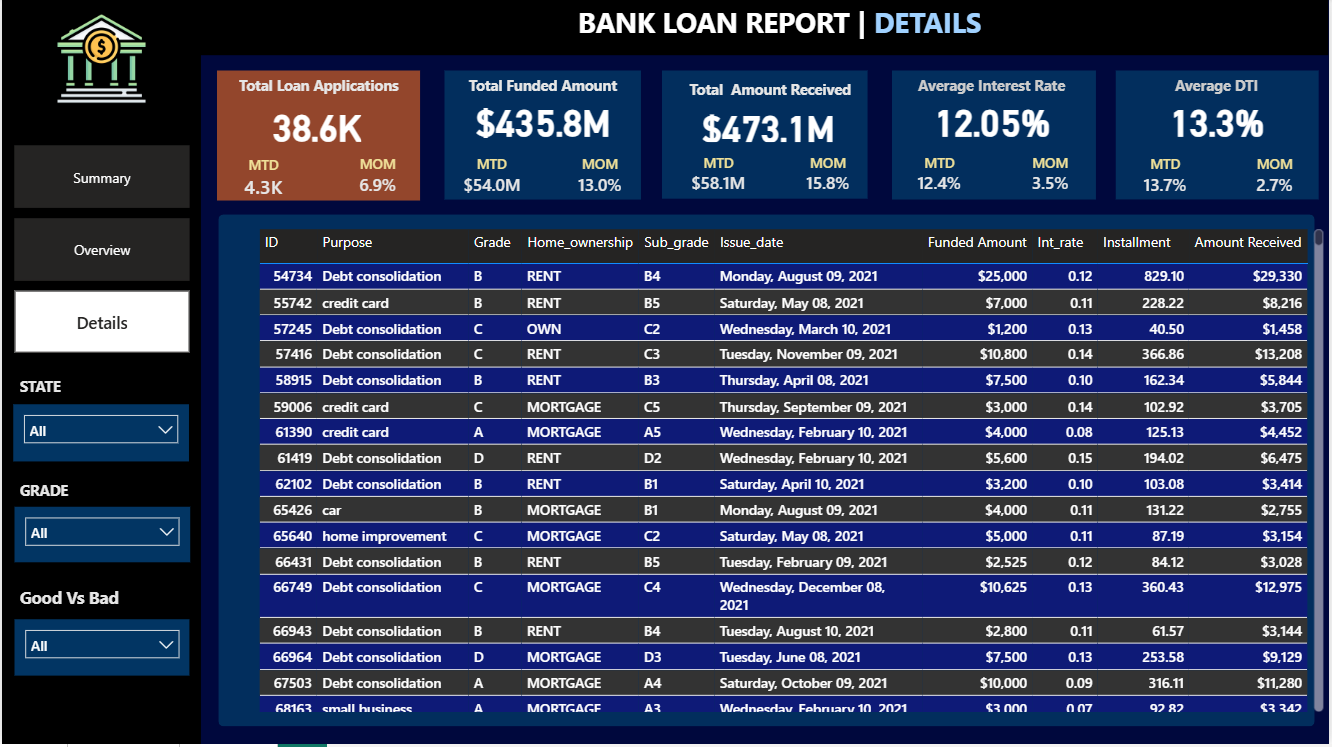

The page's visual inventory and layout, read from the dashboard file:
{"tool":"powerbi","page":{"name":"Details","canvas":[1280,720],"ordinal":2},"visuals":[{"type":"shape","box":[0,0,192.3,720.8],"z":0},{"type":"shape","box":[208.5,69.9,196.3,125.5],"z":0,"group":"g1"},{"type":"shape","box":[426.9,69.9,189.6,124.6],"z":0,"group":"g2"},{"type":"shape","box":[636.8,69.9,198.4,123.7],"z":0,"group":"g3"},{"type":"shape","box":[858.3,69.9,197,124.5],"z":0,"group":"g4"},{"type":"shape","box":[1075,69.9,195.9,124.4],"z":0,"group":"g5"},{"type":"shape","box":[0,0,1280.3,54.9],"z":1000},{"type":"cardVisual","fields":{"Data":["Bank_Loan_Data.Total Loan Application"]},"box":[208,78.1,193.7,92.8],"z":1000,"group":"g1"},{"type":"cardVisual","fields":{"Data":["Bank_Loan_Data.Total Funded Amount"]},"box":[426.6,88,190.9,64.9],"z":1000,"group":"g2"},{"type":"cardVisual","fields":{"Data":["Bank_Loan_Data.AVG Interest Rate"]},"box":[856.3,88.1,198.3,64.6],"z":1000,"group":"g4"},{"type":"cardVisual","fields":{"Data":["Bank_Loan_Data.AVG DTI"]},"box":[1074.5,88.2,195.8,64.6],"z":1000,"group":"g5"},{"type":"cardVisual","fields":{"Data":["Bank_Loan_Data.Total Amount Received"]},"box":[642.4,95.8,193.3,61.4],"z":1000,"group":"g3"},{"type":"textbox","box":[208.5,69.9,196.3,32],"z":2000,"group":"g1"},{"type":"textbox","box":[426.9,69.9,189.6,31.8],"z":2000,"group":"g2"},{"type":"textbox","box":[856.6,70.1,196.9,31.7],"z":2000,"group":"g4"},{"type":"textbox","box":[1074.8,70.2,194.5,31.6],"z":2000,"group":"g5"},{"type":"textbox","box":[645.2,74,192,30.1],"z":2000,"group":"g3"},{"type":"shape","box":[208.4,208.4,1058.3,494.4],"z":2000},{"type":"cardVisual","title":"MTD","fields":{"Data":["Bank_Loan_Data.MTD Amount Received"]},"box":[655.2,150,73,41.3],"z":3000,"group":"g3"},{"type":"cardVisual","title":"MTD","fields":{"Data":["Bank_Loan_Data.MTD AVG Interest Rate"]},"box":[866.9,150.1,74.8,43.5],"z":3000,"group":"g4"},{"type":"cardVisual","title":"MTD","fields":{"Data":["Bank_Loan_Data.MTD AVG DTI"]},"box":[1085,150.2,73.9,43.5],"z":3000,"group":"g5"},{"type":"cardVisual","title":"MTD","fields":{"Data":["Bank_Loan_Data.MTD Funded Amount"]},"box":[436.8,150.3,72.1,43.7],"z":3000,"group":"g2"},{"type":"cardVisual","title":"MTD","fields":{"Data":["Bank_Loan_Data.MTD Loan Applications"]},"box":[217.6,151.3,70.7,44.1],"z":3000,"group":"g1"},{"type":"textbox","box":[12.1,360.4,84.7,39],"z":3000},{"type":"textbox","box":[192.3,0,1088,55.1],"z":4000},{"type":"cardVisual","title":"MOM","fields":{"Data":["Bank_Loan_Data.MoM Total Amount Received"]},"box":[758.3,150,76.8,42.6],"z":4000,"group":"g3"},{"type":"cardVisual","title":"MOM","fields":{"Data":["Bank_Loan_Data.MoM AVG Int Rate"]},"box":[972.6,150.1,78.8,44.8],"z":4000,"group":"g4"},{"type":"cardVisual","title":"MOM","fields":{"Data":["Bank_Loan_Data.MoM AVG DTI"]},"box":[1189.4,150.2,77.8,44.8],"z":4000,"group":"g5"},{"type":"cardVisual","title":"MOM","fields":{"Data":["Bank_Loan_Data.MoM Total Funded Amount"]},"box":[538.6,150.3,75.9,45.1],"z":4000,"group":"g2"},{"type":"cardVisual","title":"MOM","fields":{"Data":["Bank_Loan_Data.MoM Loan Application"]},"box":[324.1,150.9,78.5,45.4],"z":4000,"group":"g1"},{"type":"group","id":"g1","title":"Group 1","box":[208,69.9,196.8,126.4],"z":5000},{"type":"group","id":"g2","title":"Group 1","box":[426.6,69.9,191,126.4],"z":6000},{"type":"group","id":"g3","title":"Group 1","box":[636.8,69.9,200.4,123.7],"z":7000},{"type":"group","id":"g4","title":"Group 1","box":[856.3,69.9,199,125.1],"z":8000},{"type":"group","id":"g5","title":"Group 1","box":[1074.5,69.9,196.3,125.1],"z":9000},{"type":"slicer","fields":{"Values":["Bank_Loan_Data.address_state"]},"box":[10.8,392.7,169.4,55.1],"z":10000},{"type":"slicer","fields":{"Values":["Bank_Loan_Data.grade"]},"box":[12.1,490.9,169.4,53.8],"z":11000},{"type":"textbox","box":[12.1,461.3,72.6,48.4],"z":12000},{"type":"textbox","box":[12.3,562.5,168.9,73.5],"z":13000},{"type":"slicer","fields":{"Values":["Bank_Loan_Data.Good Loan VS Bad Loan"]},"box":[12.3,599.3,168.9,54.5],"z":14000},{"type":"tableEx","fields":{"Values":["Bank_Loan_Data.id","Bank_Loan_Data.purpose","Bank_Loan_Data.grade","Bank_Loan_Data.home_ownership","Bank_Loan_Data.sub_grade","Bank_Loan_Data.issue_date","Bank_Loan_Data.Total Funded Amount","Sum(Bank_Loan_Data.int_rate)","Sum(Bank_Loan_Data.installment)","Bank_Loan_Data.Total Amount Received"]},"box":[242.4,217.9,1037.8,475.3],"z":15000},{"type":"image","box":[10.8,13.5,169.8,90.3],"z":16000},{"type":"pageNavigator","box":[12.1,142.9,169.8,200.8],"z":17000}]}

Visuals, with their boxes in screenshot pixels (x1, y1, x2, y2), scaled from the page's 1280x720 canvas onto the 1332x747 screenshot:
shape: BBox(0, 0, 200, 746)
shape: BBox(217, 73, 421, 203)
shape: BBox(444, 73, 642, 202)
shape: BBox(663, 73, 869, 201)
shape: BBox(893, 73, 1098, 202)
shape: BBox(1119, 73, 1323, 202)
shape: BBox(0, 0, 1331, 57)
cardVisual - Bank_Loan_Data.Total Loan Application: BBox(216, 81, 418, 177)
cardVisual - Bank_Loan_Data.Total Funded Amount: BBox(444, 91, 643, 159)
cardVisual - Bank_Loan_Data.AVG Interest Rate: BBox(891, 91, 1097, 158)
cardVisual - Bank_Loan_Data.AVG DTI: BBox(1118, 92, 1322, 159)
cardVisual - Bank_Loan_Data.Total Amount Received: BBox(668, 99, 870, 163)
textbox: BBox(217, 73, 421, 106)
textbox: BBox(444, 73, 642, 106)
textbox: BBox(891, 73, 1096, 106)
textbox: BBox(1118, 73, 1321, 106)
textbox: BBox(671, 77, 871, 108)
shape: BBox(217, 216, 1318, 729)
"MTD" cardVisual: BBox(682, 156, 758, 198)
"MTD" cardVisual: BBox(902, 156, 980, 201)
"MTD" cardVisual: BBox(1129, 156, 1206, 201)
"MTD" cardVisual: BBox(455, 156, 530, 201)
"MTD" cardVisual: BBox(226, 157, 300, 203)
textbox: BBox(13, 374, 101, 414)
textbox: BBox(200, 0, 1331, 57)
"MOM" cardVisual: BBox(789, 156, 869, 200)
"MOM" cardVisual: BBox(1012, 156, 1094, 202)
"MOM" cardVisual: BBox(1238, 156, 1319, 202)
"MOM" cardVisual: BBox(560, 156, 639, 203)
"MOM" cardVisual: BBox(337, 157, 419, 204)
"Group 1" group: BBox(216, 73, 421, 204)
"Group 1" group: BBox(444, 73, 643, 204)
"Group 1" group: BBox(663, 73, 871, 201)
"Group 1" group: BBox(891, 73, 1098, 202)
"Group 1" group: BBox(1118, 73, 1322, 202)
slicer - Bank_Loan_Data.address_state: BBox(11, 407, 188, 465)
slicer - Bank_Loan_Data.grade: BBox(13, 509, 189, 565)
textbox: BBox(13, 479, 88, 529)
textbox: BBox(13, 584, 189, 660)
slicer - Bank_Loan_Data.Good Loan VS Bad Loan: BBox(13, 622, 189, 678)
tableEx - Bank_Loan_Data.id x Bank_Loan_Data.purpose: BBox(252, 226, 1331, 719)
image: BBox(11, 14, 188, 108)
pageNavigator: BBox(13, 148, 189, 357)
